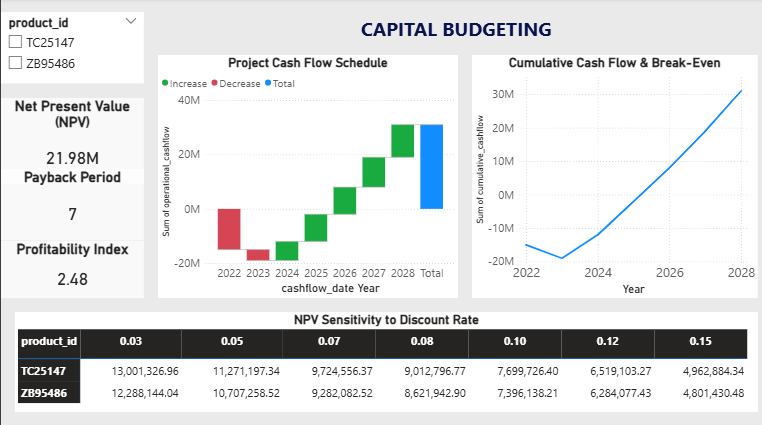

The dashboard page shown, as its layout file describes it:
{"tool":"powerbi","page":{"name":"Capital Budgeting","canvas":[1280,720],"ordinal":4},"visuals":[{"type":"slicer","fields":{"Values":["presentation vw_capex_project_summary.product_id"]},"box":[0,24,240,120],"z":0},{"type":"card","title":"Net Present Value (NPV)","fields":{"Values":["Measures_table.Total NPV"]},"box":[0,168,240,144],"z":1},{"type":"card","title":"Payback Period","fields":{"Values":["Sum(presentation vw_capex_project_summary.payback_period)"]},"box":[0,288,240,120],"z":2},{"type":"card","title":"Profitability Index","fields":{"Values":["Measures_table.Profitability Index"]},"box":[0,408,240,96],"z":3},{"type":"waterfallChart","title":"Project Cash Flow Schedule","fields":{"Category":["presentation vw_capex_cashflow_schedule.cashflow_date.Variation.Date Hierarchy.Year","presentation vw_capex_cashflow_schedule.cashflow_date.Variation.Date Hierarchy.Quarter","presentation vw_capex_cashflow_schedule.cashflow_date.Variation.Date Hierarchy.Month","presentation vw_capex_cashflow_schedule.cashflow_date.Variation.Date Hierarchy.Day"],"Y":["Sum(presentation vw_capex_cashflow_schedule.operational_cashflow)"]},"box":[264,96,504,408],"z":4},{"type":"lineChart","title":"Cumulative Cash Flow & Break-Even","fields":{"Category":["presentation vw_capex_cashflow_schedule.cashflow_date.Variation.Date Hierarchy.Year","presentation vw_capex_cashflow_schedule.cashflow_date.Variation.Date Hierarchy.Quarter","presentation vw_capex_cashflow_schedule.cashflow_date.Variation.Date Hierarchy.Month","presentation vw_capex_cashflow_schedule.cashflow_date.Variation.Date Hierarchy.Day"],"Y":["Sum(presentation vw_capex_cashflow_schedule.cumulative_cashflow)"]},"box":[792,96,480,408],"z":5},{"type":"pivotTable","title":"NPV Sensitivity to Discount Rate","fields":{"Rows":["presentation vw_capex_sensitivity.product_id"],"Columns":["presentation vw_capex_sensitivity.discount_rate"],"Values":["Sum(presentation vw_capex_sensitivity.npv)"]},"box":[24,528,1248,168],"z":6},{"type":"textbox","box":[600,24,360,72],"z":7}]}

Visuals, with their boxes in screenshot pixels (x1, y1, x2, y2), scaled from the page's 1280x720 canvas onto the 762x425 screenshot:
slicer - presentation vw_capex_project_summary.product_id: box=[0, 14, 143, 85]
"Net Present Value (NPV)" card: box=[0, 99, 143, 184]
"Payback Period" card: box=[0, 170, 143, 241]
"Profitability Index" card: box=[0, 241, 143, 298]
"Project Cash Flow Schedule" waterfallChart: box=[157, 57, 457, 298]
"Cumulative Cash Flow & Break-Even" lineChart: box=[471, 57, 757, 298]
"NPV Sensitivity to Discount Rate" pivotTable: box=[14, 312, 757, 411]
textbox: box=[357, 14, 572, 57]
